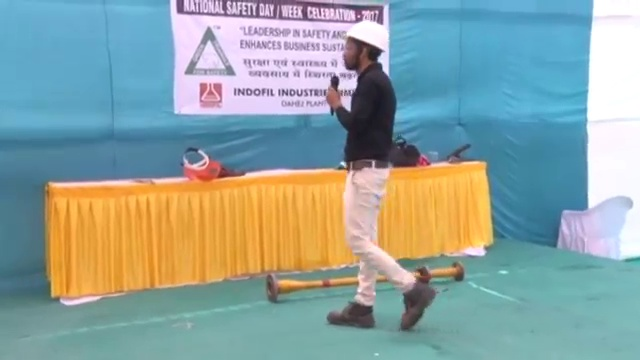helmet: (337, 19, 392, 57)
helmet_on: (341, 22, 392, 76)
person: (326, 20, 433, 328)
